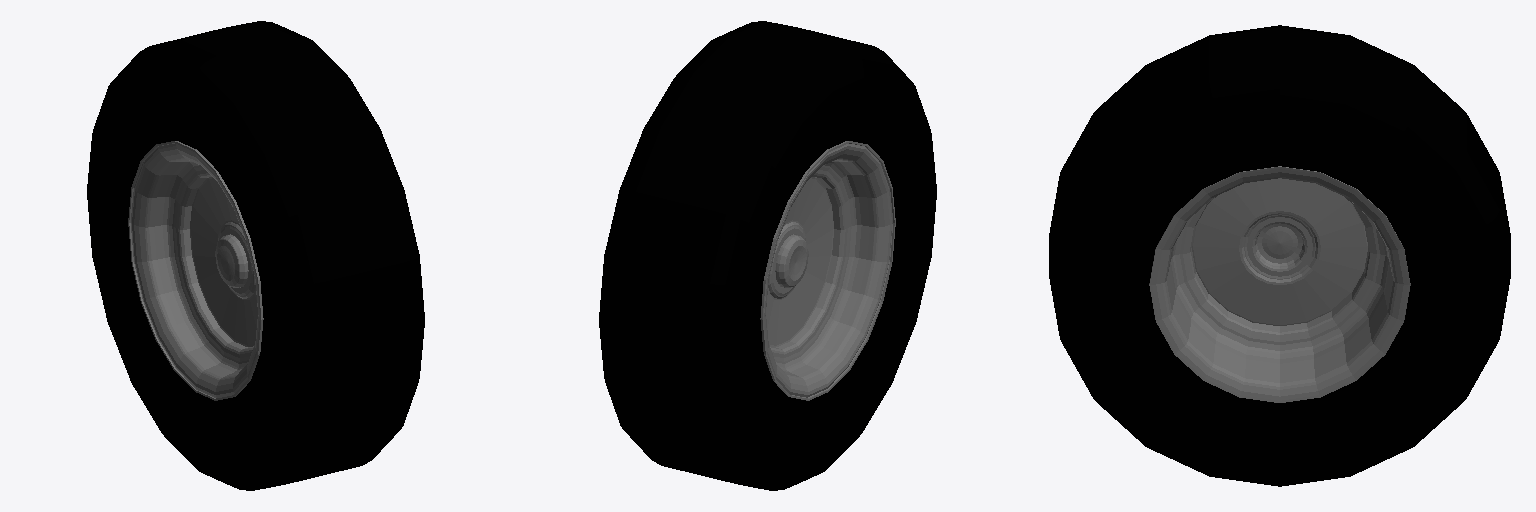
The model's file is tire_20.obj.
3 renders of one model, left to right at view 1: azimuth 30°, elevation 25°; view 2: azimuth 150°, elevation 25°; view 3: azimuth 270°, elevation 25°, orthographic.
Visible parts, largest first — view 1: Plane; view 2: Plane; view 3: Plane.
Part boxes in pixels (left/top/right/bottom): Plane: left=87, top=21, right=424, bottom=490; Plane: left=599, top=21, right=936, bottom=490; Plane: left=1049, top=25, right=1510, bottom=486.
Bounding box in the file's own units: 0.529 × 1.58 × 1.58.